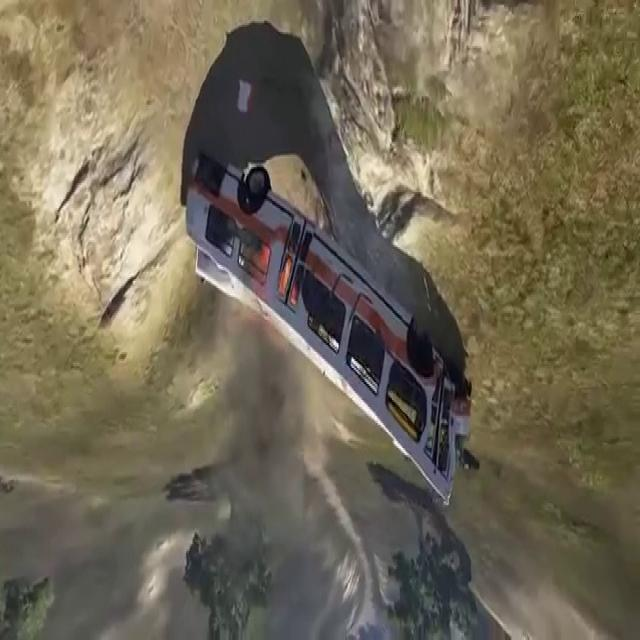severe: (180, 139, 480, 522)
